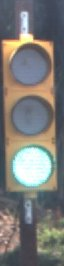Green: (1, 31, 57, 201)
